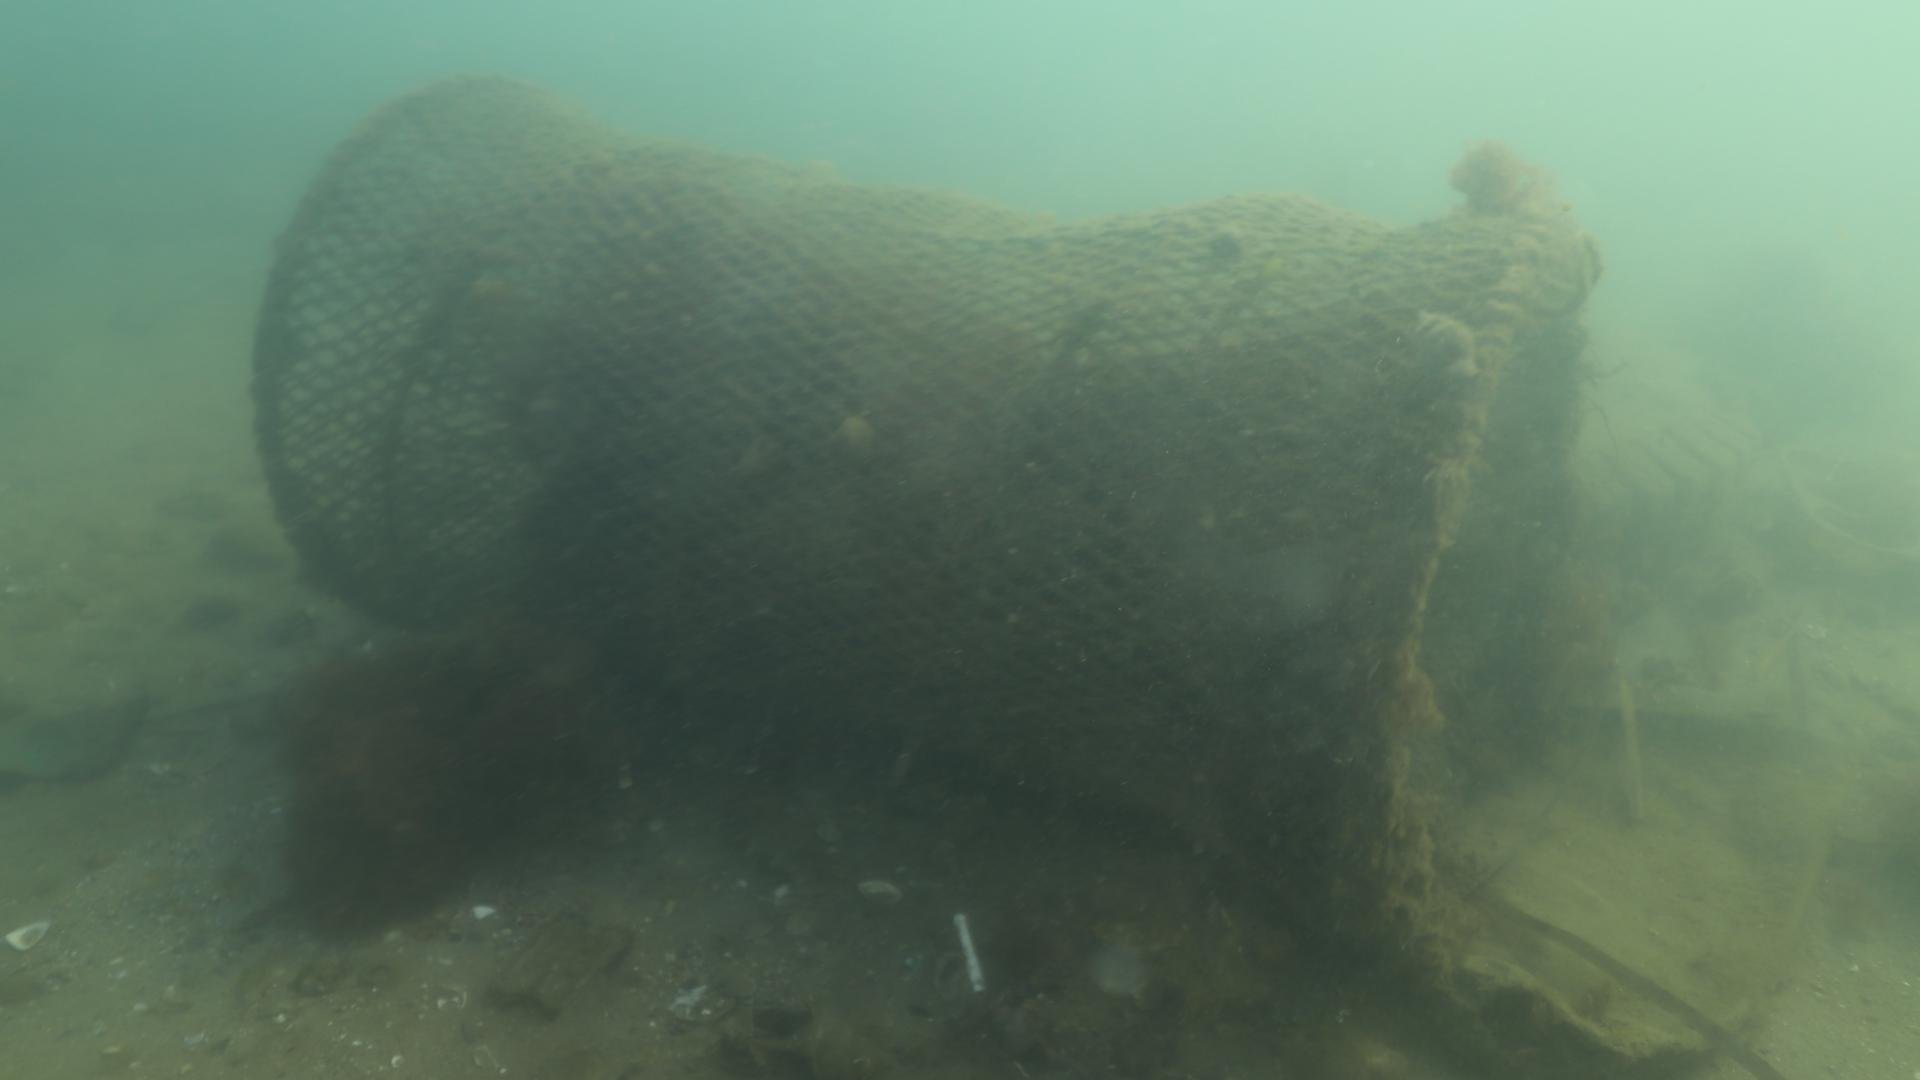spring fish trap: (247, 70, 1596, 927)
